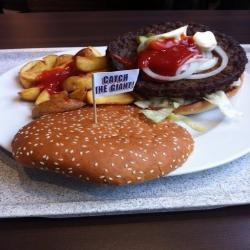burger: (18, 16, 250, 190)
